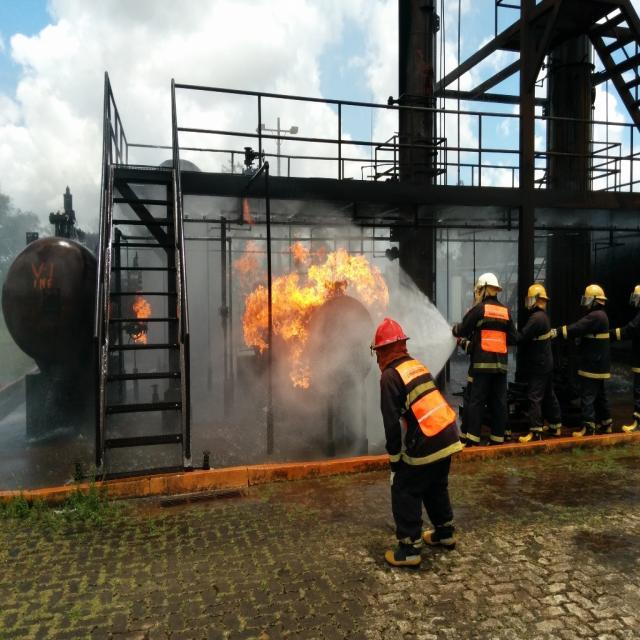Fire: (234, 200, 389, 390), (133, 298, 152, 344)
Smoke: (115, 180, 389, 462), (436, 228, 518, 328)
